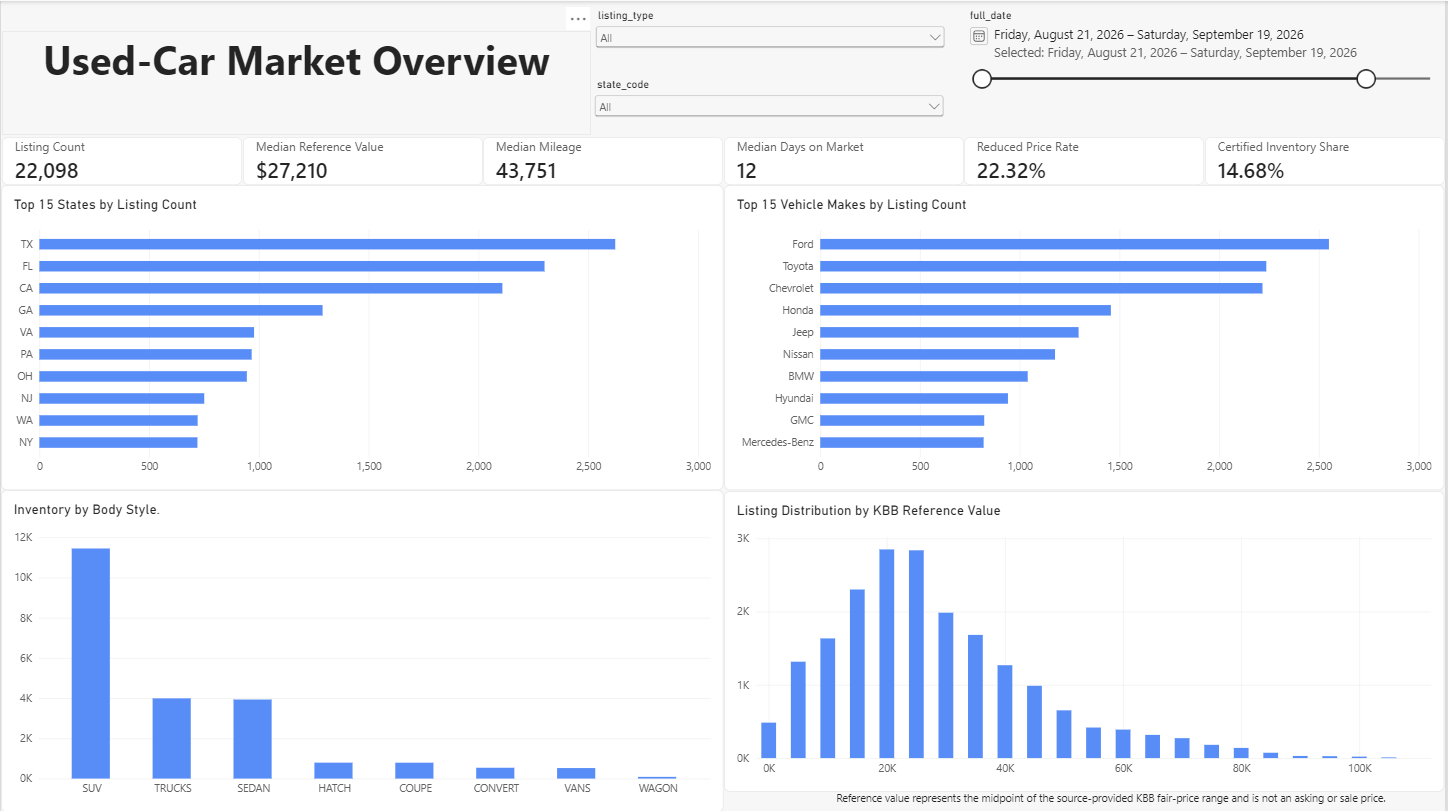

What the dashboard file says about the page in this screenshot:
{"tool":"powerbi","page":{"name":"Market Overview","canvas":[1920,1080],"ordinal":0},"visuals":[{"type":"slicer","fields":{"Values":["fct_listings.listing_type"]},"box":[785.4,10.6,474.1,82.8],"z":0,"group":"g2"},{"type":"clusteredBarChart","title":"Top 15 States by Listing Count","fields":{"Category":["dim_geography.state_code"],"Y":["_Measures.Listing Count"]},"box":[0,245.2,961.1,406],"z":0,"group":"g4"},{"type":"clusteredBarChart","title":"Top 15 Vehicle Makes by Listing Count","fields":{"Category":["dim_vehicle.make_name"],"Y":["_Measures.Listing Count"]},"box":[961.1,245.2,958,406],"z":0,"group":"g1"},{"type":"textbox","box":[1.3,39.9,783.4,138.3],"z":1000},{"type":"slicer","fields":{"Values":["dim_geography.state_code"]},"box":[784.7,102.2,474.1,78.6],"z":1000,"group":"g2"},{"type":"clusteredColumnChart","title":"Listing Distribution by KBB Reference Value","fields":{"Category":["fct_listings.Reference Value Band ($5k)"],"Y":["_Measures.Listing Count"]},"box":[961.1,651.2,958,400.2],"z":1000,"group":"g1"},{"type":"slicer","fields":{"Values":["dim_date.full_date"]},"box":[1280.8,10.6,638.4,167.6],"z":2000},{"type":"group","id":"g1","title":"Group 5","box":[0,180.9,1920.6,897.8],"z":2000},{"type":"clusteredColumnChart","title":"Inventory by Body Style.","fields":{"Category":["dim_vehicle.body_style"],"Y":["_Measures.Listing Count"]},"box":[0,651.2,961.1,428.8],"z":2000,"group":"g4"},{"type":"textbox","box":[1033.5,1051.4,885.6,28.6],"z":2000,"group":"g1"},{"type":"group","id":"g2","title":"Group 2","box":[784.7,10.6,474.8,170.2],"z":2001},{"type":"cardVisual","fields":{"Data":["_Measures.Listing Count"]},"box":[1.5,180.9,319.6,64.3],"z":3000,"group":"g3"},{"type":"group","id":"g3","title":"Group 1","box":[1.5,180.9,1919.1,64.3],"z":3000,"group":"g1"},{"type":"cardVisual","fields":{"Data":["_Measures.Median Days on Market"]},"box":[961.2,180.9,319.6,64.3],"z":4000,"group":"g3"},{"type":"cardVisual","fields":{"Data":["_Measures.Median Reference Value"]},"box":[321.4,180.9,319.6,64.3],"z":5000,"group":"g3"},{"type":"group","id":"g4","title":"Group 4","box":[0,245.2,961.1,834.8],"z":5000,"group":"g1"},{"type":"cardVisual","fields":{"Data":["_Measures.Reduced Price Rate"]},"box":[1281,180.9,319.6,64.3],"z":6000,"group":"g3"},{"type":"textbox","box":[0,912.6,961.3,139.3],"z":6000,"group":"g1"},{"type":"cardVisual","fields":{"Data":["_Measures.Median Mileage"]},"box":[641.3,180.9,319.6,64.3],"z":7000,"group":"g3"},{"type":"cardVisual","fields":{"Data":["_Measures.Certified Inventory Share"]},"box":[1600.9,180.9,319.6,64.3],"z":8000,"group":"g3"}]}

Visuals, with their boxes in screenshot pixels (x1, y1, x2, y2), scaled from the page's 1920x1080 canvas onto the 1448x811 screenshot:
slicer - fct_listings.listing_type: [x1=592, y1=8, x2=950, y2=70]
"Top 15 States by Listing Count" clusteredBarChart: [x1=0, y1=184, x2=725, y2=489]
"Top 15 Vehicle Makes by Listing Count" clusteredBarChart: [x1=725, y1=184, x2=1447, y2=489]
textbox: [x1=1, y1=30, x2=592, y2=134]
slicer - dim_geography.state_code: [x1=592, y1=77, x2=949, y2=136]
"Listing Distribution by KBB Reference Value" clusteredColumnChart: [x1=725, y1=489, x2=1447, y2=790]
slicer - dim_date.full_date: [x1=966, y1=8, x2=1447, y2=134]
"Group 5" group: [x1=0, y1=136, x2=1447, y2=810]
"Inventory by Body Style." clusteredColumnChart: [x1=0, y1=489, x2=725, y2=810]
textbox: [x1=779, y1=790, x2=1447, y2=810]
"Group 2" group: [x1=592, y1=8, x2=950, y2=136]
cardVisual - _Measures.Listing Count: [x1=1, y1=136, x2=242, y2=184]
"Group 1" group: [x1=1, y1=136, x2=1447, y2=184]
cardVisual - _Measures.Median Days on Market: [x1=725, y1=136, x2=966, y2=184]
cardVisual - _Measures.Median Reference Value: [x1=242, y1=136, x2=483, y2=184]
"Group 4" group: [x1=0, y1=184, x2=725, y2=810]
cardVisual - _Measures.Reduced Price Rate: [x1=966, y1=136, x2=1207, y2=184]
textbox: [x1=0, y1=685, x2=725, y2=790]
cardVisual - _Measures.Median Mileage: [x1=484, y1=136, x2=725, y2=184]
cardVisual - _Measures.Certified Inventory Share: [x1=1207, y1=136, x2=1447, y2=184]
